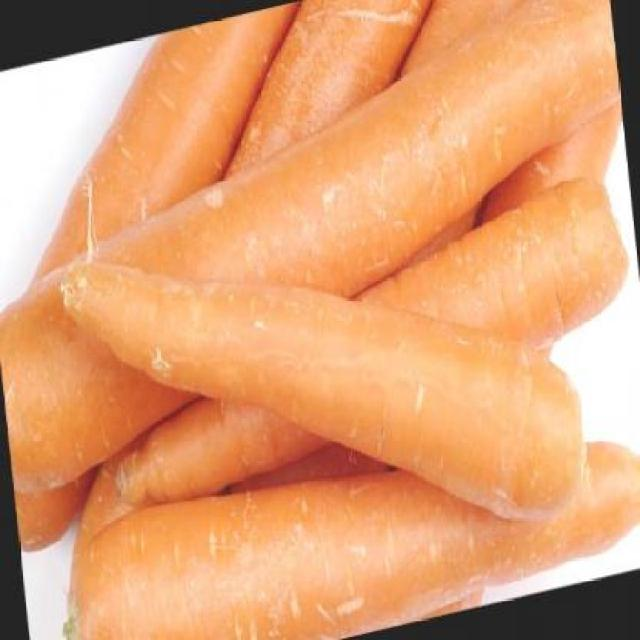carrot: (0, 0, 638, 498), (58, 147, 592, 622), (94, 167, 638, 518), (53, 388, 639, 640), (4, 2, 325, 290), (205, 1, 466, 179)
